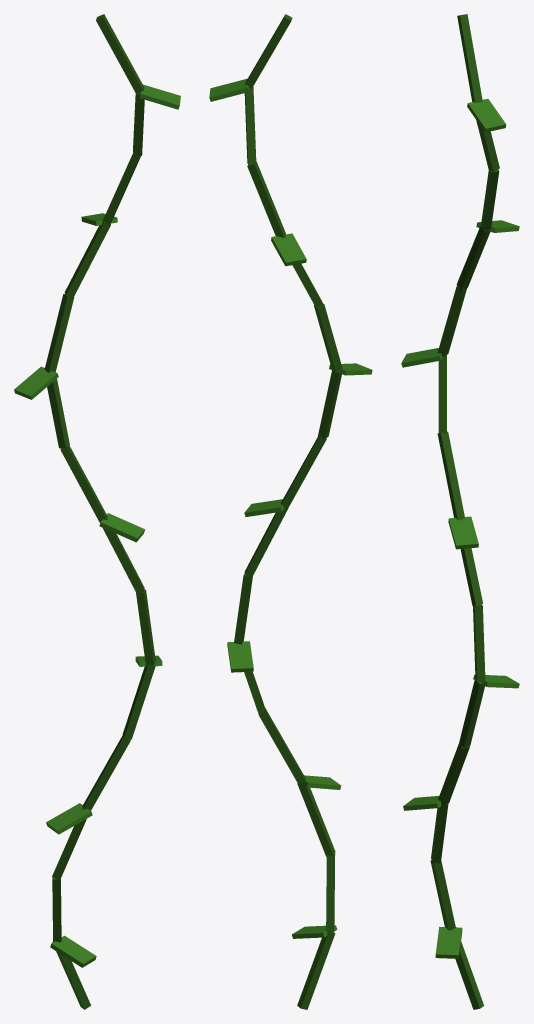
File: jg_liana.glb
The picture shows the model from 3 angles, left to right: view 1: azimuth 30°, elevation 25°; view 2: azimuth 210°, elevation 25°; view 3: azimuth 330°, elevation 25°; orthographic projection. The views are drawn at different scales.
Visible parts, largest first — view 1: jg_liana; view 2: jg_liana; view 3: jg_liana.
Part boxes in pixels (x1,y1,x2,y2): jg_liana: (14,14,180,1009); jg_liana: (209,14,372,1009); jg_liana: (401,14,519,1009).
Size of the model in its own units: 0.9357 by 6.74 by 0.6949.
